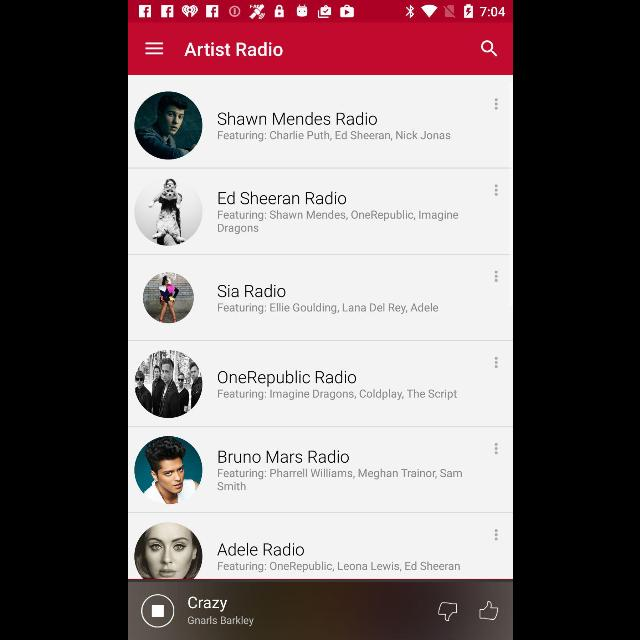icon: (479, 41, 496, 58), (144, 42, 162, 56), (494, 271, 498, 283), (494, 529, 496, 541), (494, 443, 496, 455), (494, 356, 496, 368), (494, 184, 496, 196), (494, 98, 496, 110)
image: (134, 436, 202, 504), (134, 350, 202, 418), (134, 178, 202, 246), (134, 92, 202, 160), (134, 523, 202, 579), (142, 272, 192, 324), (140, 594, 173, 628), (438, 602, 457, 622), (478, 602, 498, 620)
text: (217, 210, 458, 234), (217, 469, 461, 491), (218, 130, 450, 142), (217, 302, 437, 314), (217, 562, 459, 572), (218, 390, 457, 400), (217, 112, 376, 126), (217, 371, 355, 387), (184, 42, 282, 58), (218, 451, 348, 463), (217, 192, 345, 204), (216, 542, 304, 556), (217, 284, 285, 298), (187, 616, 253, 626), (188, 596, 226, 612)
toolbar: (128, 23, 512, 75)
uppertaskbar: (128, 1, 512, 23)
